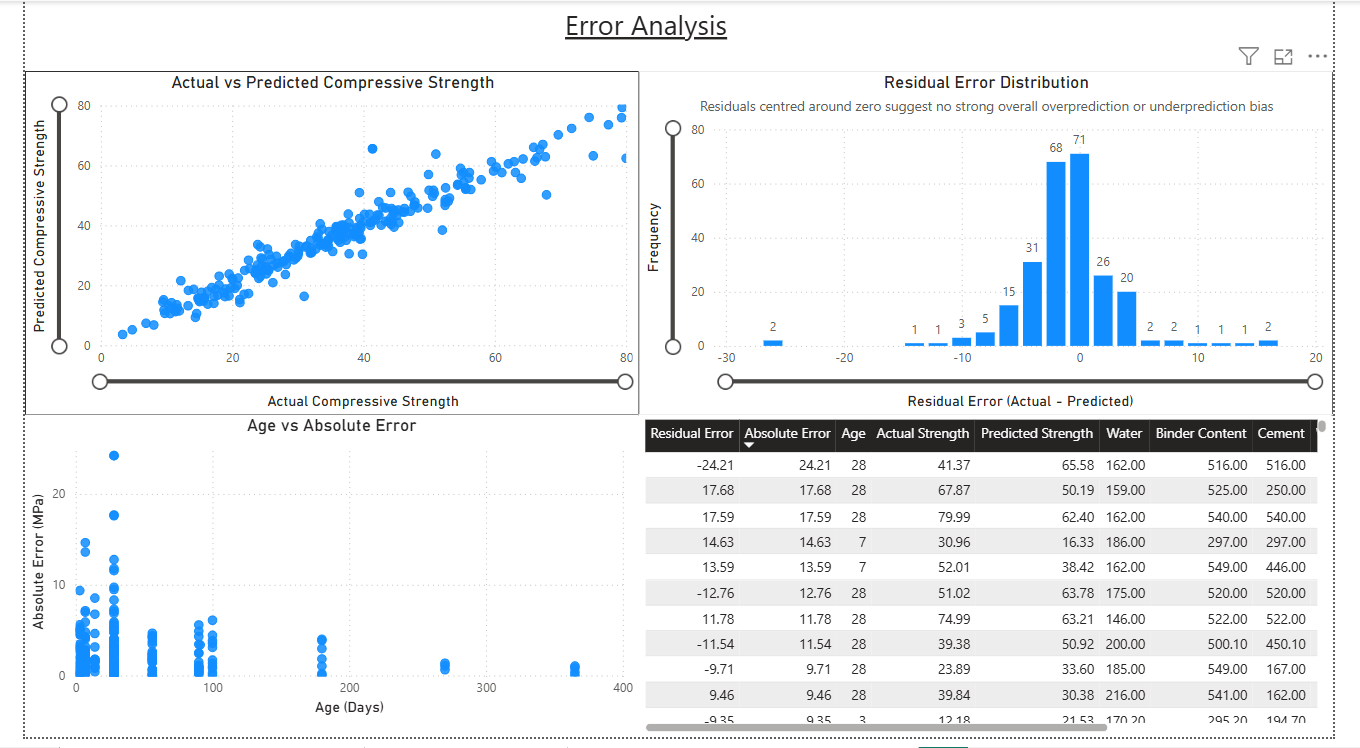

This screenshot's page, from the dashboard's own definition file:
{"tool":"powerbi","page":{"name":"Page 2 - Error Analysis","canvas":[1280,720],"ordinal":1},"visuals":[{"type":"scatterChart","title":"Actual vs Predicted Compressive Strength ","fields":{"X":["Sum(Error_and_Test_set_Table.Actual Strength)"],"Y":["Sum(Error_and_Test_set_Table.Predicted Strength)"],"Category":["Error_and_Test_set_Table.Index"],"Size":["select"]},"box":[0,68.1,600.9,336.7],"z":0},{"type":"clusteredColumnChart","title":"Residual Error Distribution","fields":{"Category":["Error_and_Test_set_Table.Residual Error (bins)"],"Y":["CountNonNull(Error_and_Test_set_Table.Index)"]},"box":[600.9,68.1,678.8,336.7],"z":1000},{"type":"scatterChart","title":"Age vs Absolute Error  ","fields":{"Category":["Error_and_Test_set_Table.Index"],"X":["Sum(Error_and_Test_set_Table.Age)"],"Y":["Sum(Error_and_Test_set_Table.Absolute Error)"]},"box":[0,404.8,600,299.1],"z":2000},{"type":"tableEx","fields":{"Values":["Error_and_Test_set_Table.Residual Error","Error_and_Test_set_Table.Absolute Error","Error_and_Test_set_Table.Age","Error_and_Test_set_Table.Actual Strength","Error_and_Test_set_Table.Predicted Strength","Error_and_Test_set_Table.Water","Error_and_Test_set_Table.Binder Content","Error_and_Test_set_Table.Cement","Error_and_Test_set_Table.Water-Cement Ratio","Error_and_Test_set_Table.Water-Binder Content Ratio"]},"box":[600.9,404.8,677.9,315.2],"z":3000},{"type":"textbox","box":[500.6,0,214.9,64.5],"z":3001}]}

Visuals, with their boxes in screenshot pixels (x1, y1, x2, y2), scaled from the page's 1280x720 canvas onto the 1360x748 screenshot:
"Actual vs Predicted Compressive Strength " scatterChart: 0:71:638:421
"Residual Error Distribution" clusteredColumnChart: 638:71:1359:421
"Age vs Absolute Error  " scatterChart: 0:421:638:731
tableEx - Error_and_Test_set_Table.Residual Error x Error_and_Test_set_Table.Absolute Error: 638:421:1359:747
textbox: 532:0:760:67
